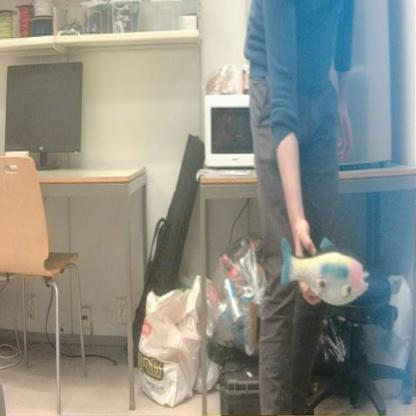rubberfish: (278, 234, 372, 309)
